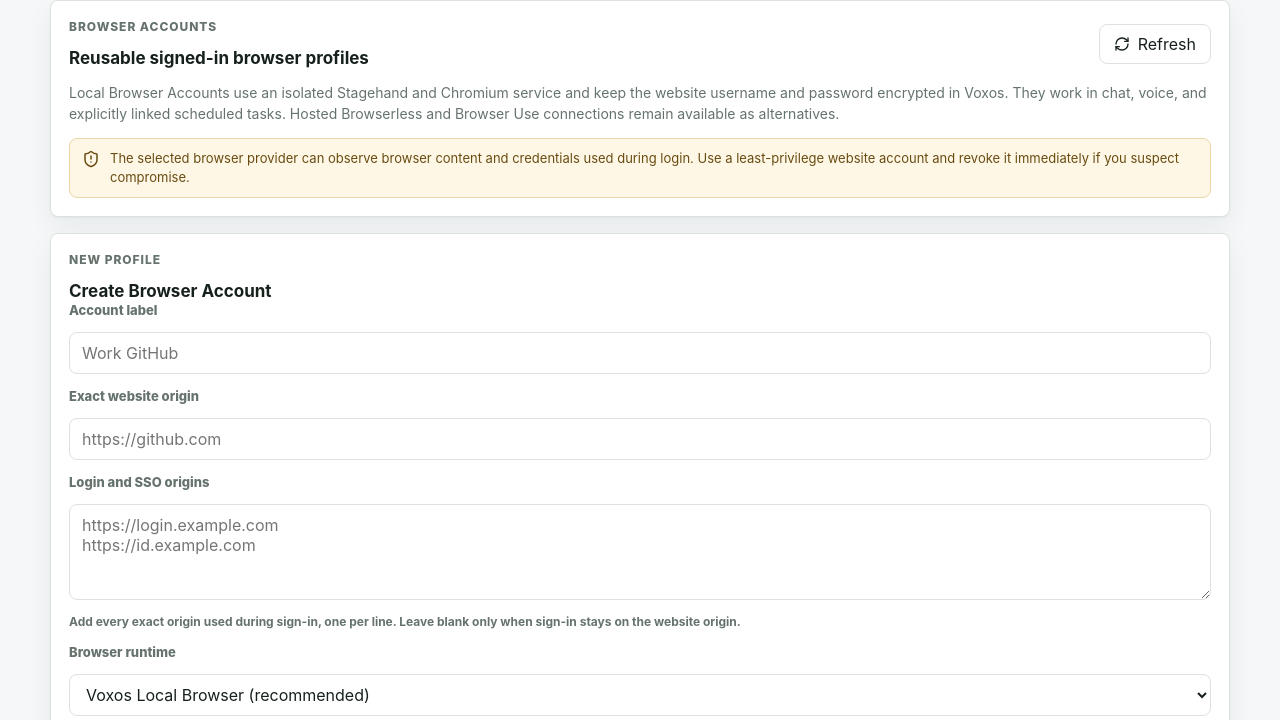
BrowserAccountsPage › creates a ready Browserless account with website credentials
Select "Browserless" in the dropdown labelled "Browser runtime": (640, 695) [69, 674, 1211, 716]
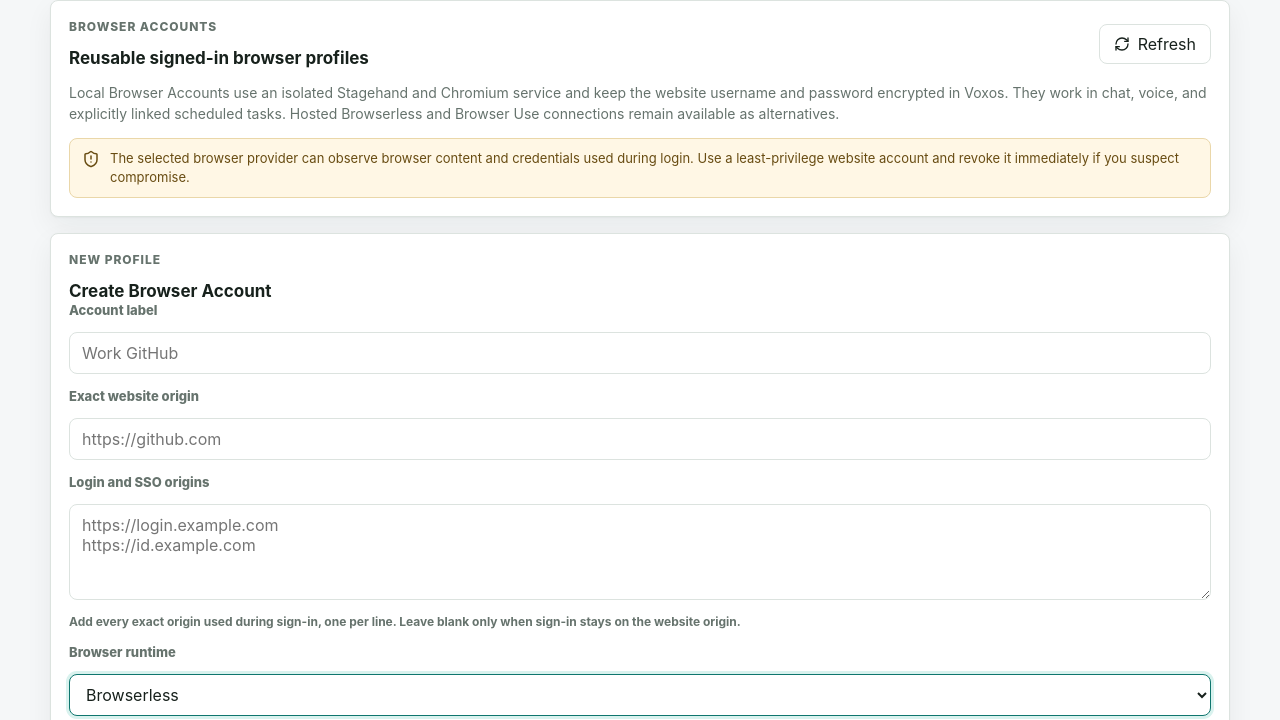
In the field labelled "Account label": (640, 353) [69, 332, 1211, 374], type "Bills"
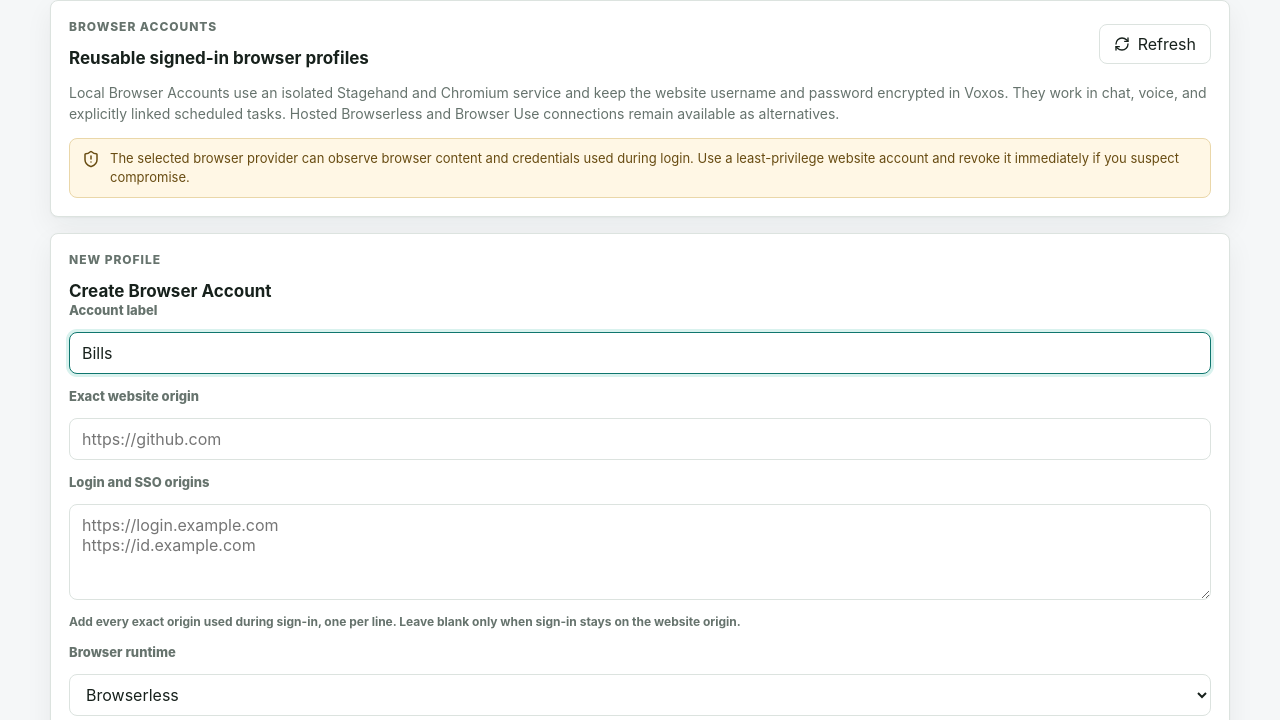
In the field labelled "Exact website origin": (640, 439) [69, 418, 1211, 460], type "https://billing.example.com"
(page scrolled)
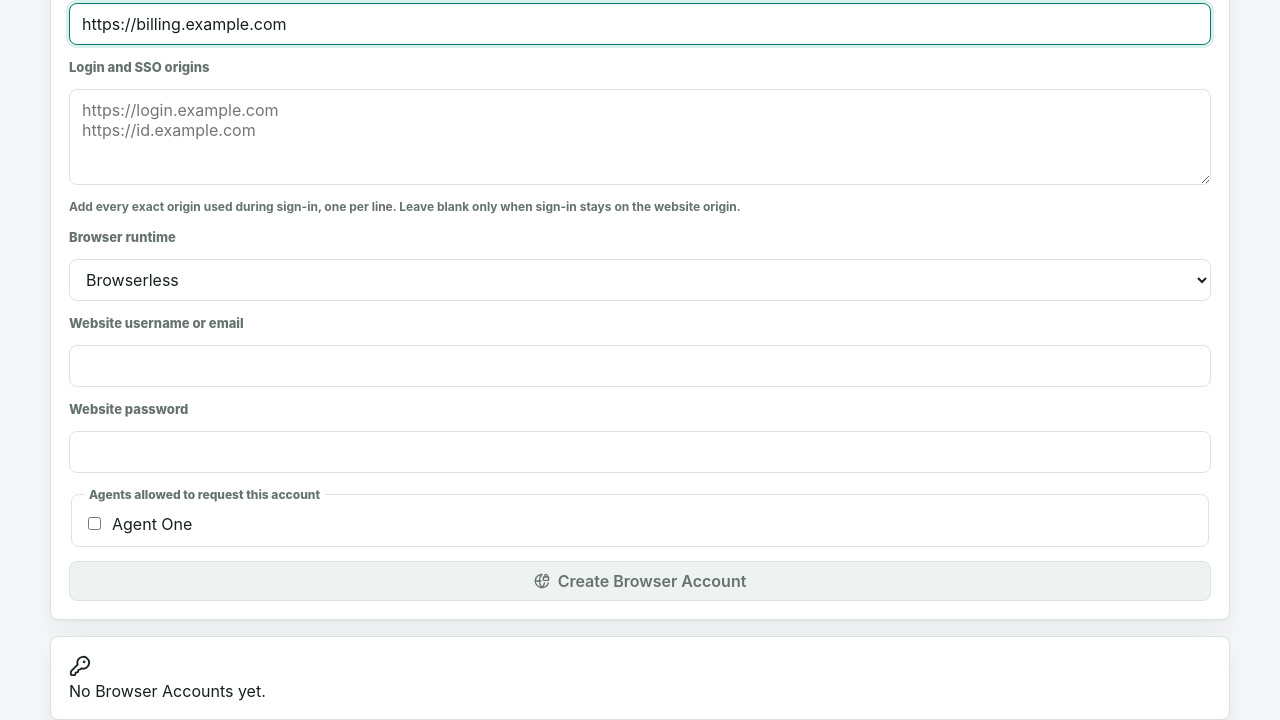
In the field labelled "Website username or email": (640, 366) [69, 345, 1211, 387], type "billing@example.com"
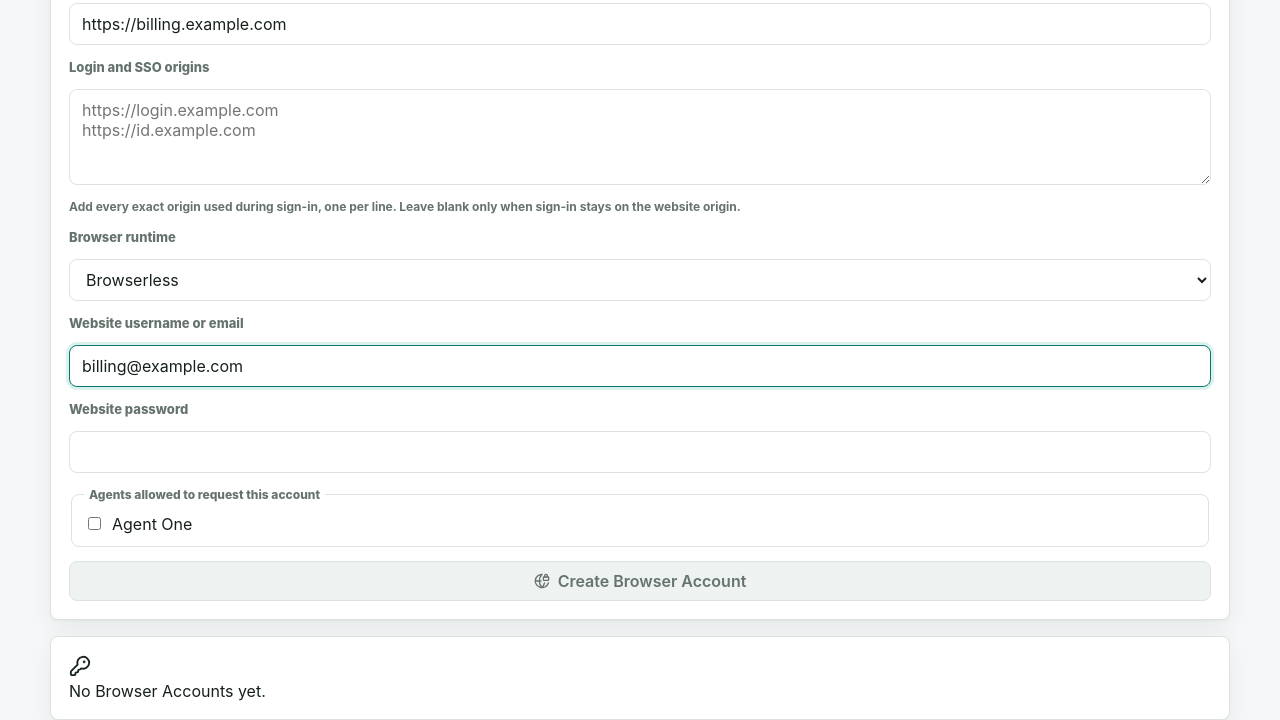
In the password field labelled "Website password": (640, 452) [69, 431, 1211, 473], type "password-123"
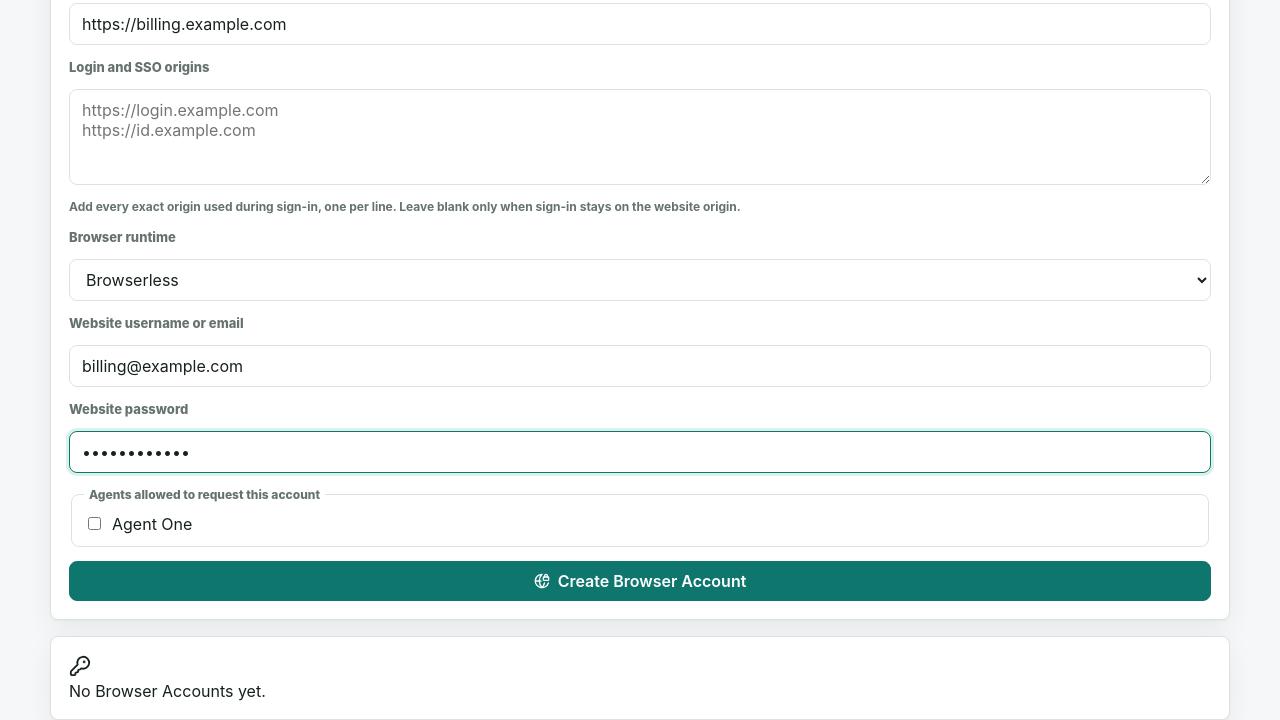
Click the button "Create Browser Account": (640, 581) [69, 561, 1211, 601]
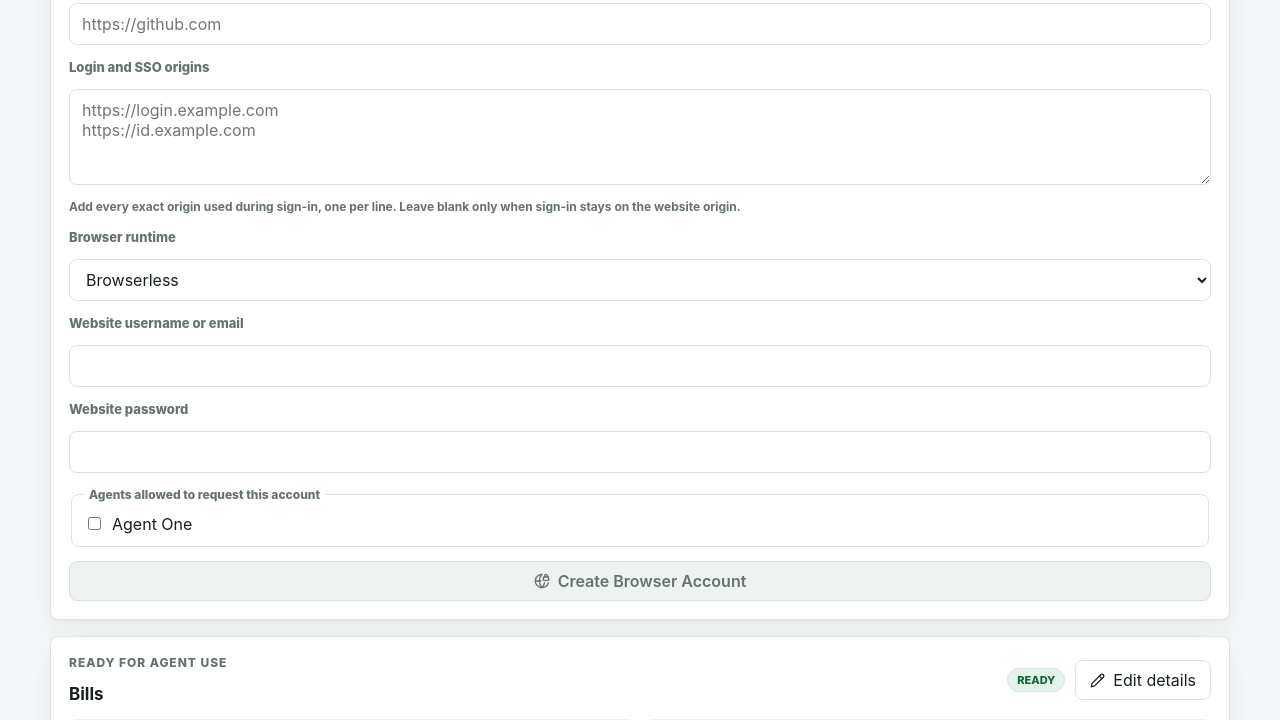
Now the heading "Bills" is shown, box [69, 684, 104, 704]
